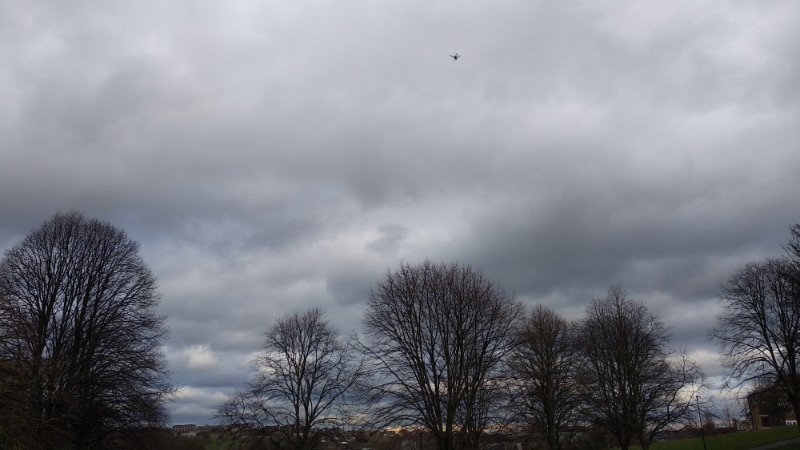drone: (449, 53, 462, 62)
